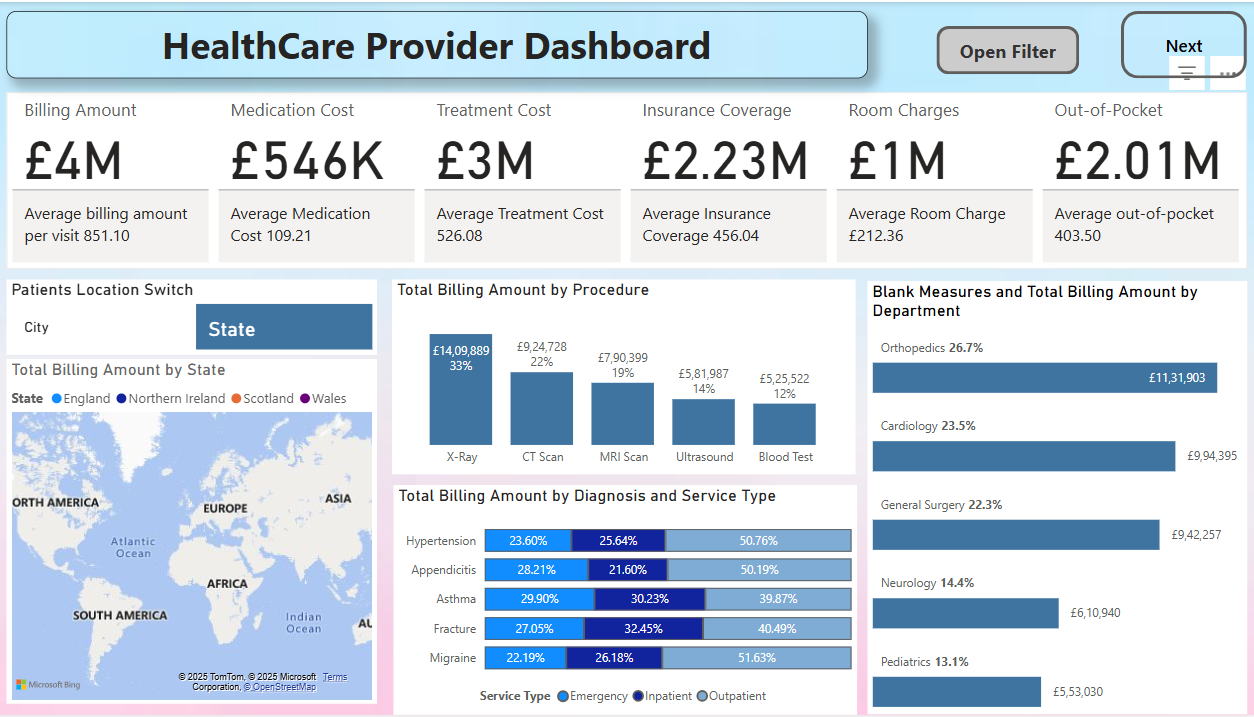

Layout of this report page (visuals, bound fields, positions):
{"tool":"powerbi","page":{"name":"Healthcare Analytics","canvas":[1280,720],"ordinal":0},"visuals":[{"type":"cardVisual","fields":{"Data":["Dax Calculation.Total Billing Amount","Dax Calculation.Total Medication cost","Dax Calculation.Total Treatment Cost","Dax Calculation.Total Insurance coverage","Dax Calculation.Total Room Charges","Dax Calculation.Out-of-Pocket"]},"box":[16.7,90.9,1252.2,178.7],"z":0},{"type":"actionButton","title":"open","box":[955.5,24.2,144.3,48.8],"z":1000,"group":"g1"},{"type":"filledMap","fields":{"Series":["cities.State"]},"box":[16.7,360.4,374,348.3],"z":1000},{"type":"advancedSlicerVisual","fields":{"Values":["Patients Location Switch.Patients Location Switch"]},"box":[16.7,280.1,374,75.7],"z":2000},{"type":"clusteredColumnChart","fields":{"Category":["procedures.Procedure"],"Y":["Dax Calculation.Total Billing Amount"]},"box":[405.8,280.1,467.9,196.8],"z":3000},{"type":"hundredPercentStackedBarChart","fields":{"Y":["Dax Calculation.Total Billing Amount"],"Category":["diagnoses.Diagnosis"],"Series":["visits.Service Type"]},"box":[407.3,487.6,467.9,231.7],"z":4000},{"type":"clusteredBarChart","fields":{"Category":["departments.Department"],"Y":["Dax Calculation.Blank Measures","Dax Calculation.Total Billing Amount"]},"box":[885.8,281.6,383.1,437.6],"z":5000},{"type":"textbox","box":[16.7,9.1,869.2,68.1],"z":6000},{"type":"actionButton","box":[1141.7,9.1,127.2,68.1],"z":7000},{"type":"group","id":"g1","title":"Slicers Btn","box":[955.5,24.2,143.8,48.5],"z":9000}]}

Visuals, with their boxes in screenshot pixels (x1, y1, x2, y2), scaled from the page's 1280x720 canvas onto the 1254x717 screenshot:
cardVisual - Dax Calculation.Total Billing Amount x Dax Calculation.Total Medication cost: [16,91,1243,268]
"open" actionButton: [936,24,1077,73]
filledMap - cities.State: [16,359,383,706]
advancedSlicerVisual - Patients Location Switch.Patients Location Switch: [16,279,383,354]
clusteredColumnChart - procedures.Procedure x Dax Calculation.Total Billing Amount: [398,279,856,475]
hundredPercentStackedBarChart - Dax Calculation.Total Billing Amount x diagnoses.Diagnosis: [399,486,857,716]
clusteredBarChart - departments.Department x Dax Calculation.Blank Measures: [868,280,1243,716]
textbox: [16,9,868,77]
actionButton: [1119,9,1243,77]
"Slicers Btn" group: [936,24,1077,72]
